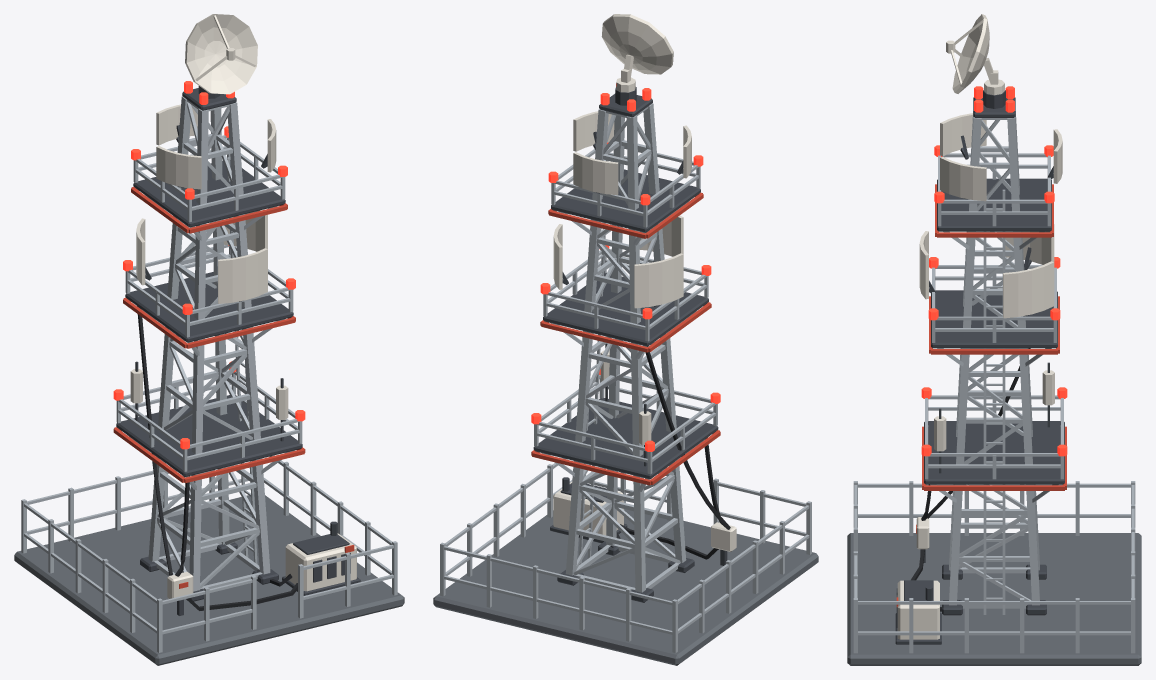
File: sci-fi-comms-tower.glb
3 renders of one model, left to right at view 1: azimuth 30°, elevation 25°; view 2: azimuth 150°, elevation 25°; view 3: azimuth 270°, elevation 25°, orthographic. The views are drawn at different scales.
Visible parts, largest first — view 1: Tower_Metal, Tower_StoneDark, Tower_Iron, Tower_Cream, RadarDish, Tower_PaintRed, Tower_Rubber; view 2: Tower_Metal, Tower_StoneDark, Tower_Iron, Tower_Cream, Tower_PaintRed, RadarDish, Tower_Rubber; view 3: Tower_Metal, Tower_StoneDark, Tower_Iron, Tower_Cream, Tower_PaintRed, RadarDish, Tower_Rubber, Beacon_1, Beacon_Top.
Boxes of the visible parts, x1,y1,x2,y2 form: Tower_Metal: (21,96,397,652); Tower_StoneDark: (14,495,404,665); Tower_Iron: (116,86,360,615); Tower_Cream: (130,104,356,598); RadarDish: (185,14,257,94); Tower_PaintRed: (113,187,354,588); Tower_Rubber: (137,306,297,610); Tower_Metal: (440,103,811,652); Tower_StoneDark: (433,509,818,665); Tower_Iron: (533,87,727,602); Tower_Cream: (553,111,736,551); Tower_PaintRed: (531,192,720,485); RadarDish: (601,14,673,92); Tower_Rubber: (610,346,730,559); Tower_Metal: (853,111,1135,653); Tower_StoneDark: (847,533,1141,665); Tower_Iron: (895,90,1064,644); Tower_Cream: (897,113,1062,639); Tower_PaintRed: (896,184,1066,607); RadarDish: (946,14,1004,95); Tower_Rubber: (911,348,1030,611); Beacon_1: (921,387,1067,456); Beacon_Top: (974,86,1014,112).
Size of the model in its own units: 14 by 30.82 by 14.
